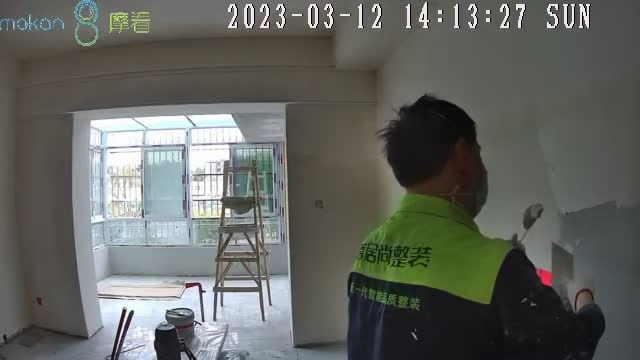people: (346, 92, 606, 360)
window: (90, 126, 284, 248)
